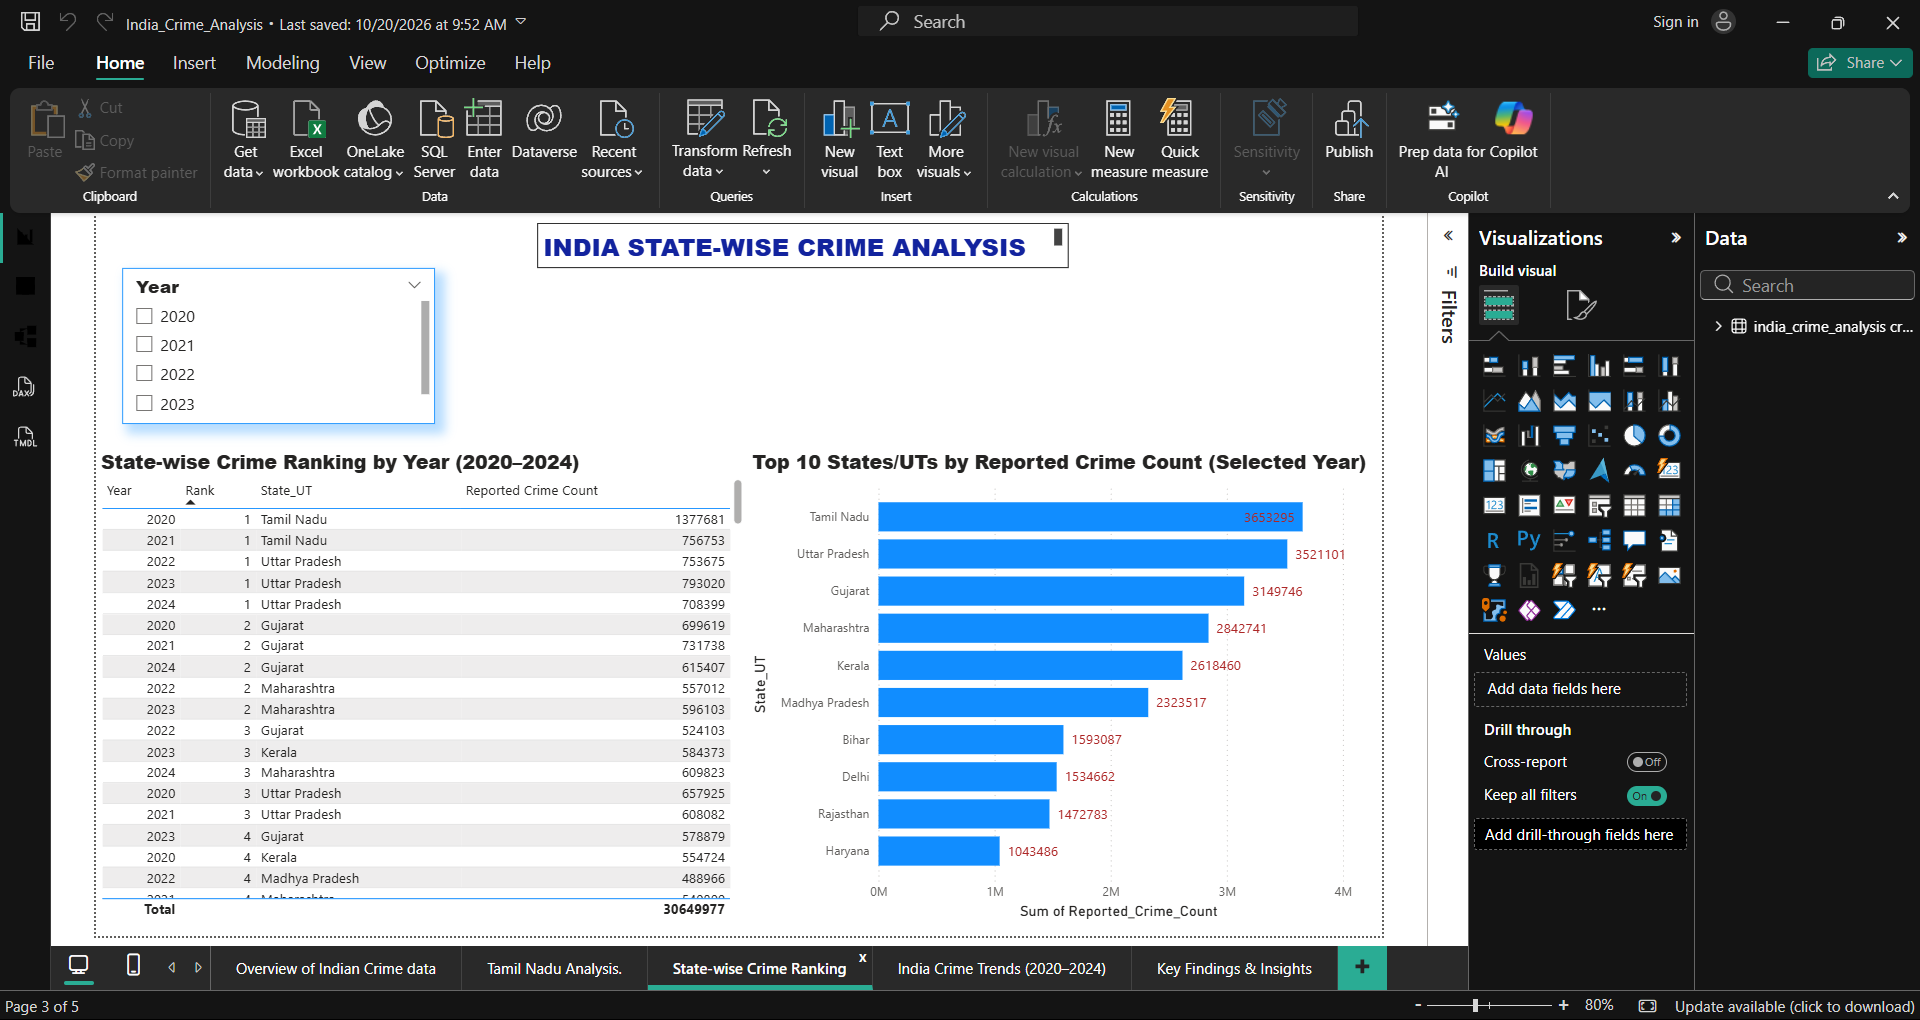

The dashboard page shown, as its layout file describes it:
{"tool":"powerbi","page":{"name":"State-wise Crime Ranking","canvas":[1280,720],"ordinal":2},"visuals":[{"type":"tableEx","title":"State-wise Crime Ranking by Year (2020–2024)","fields":{"Values":["india_crime_analysis crime_data.Year","india_crime_analysis crime_data.Rank","india_crime_analysis crime_data.State_UT","Sum(india_crime_analysis crime_data.Reported_Crime_Count)"]},"box":[0,233.9,648.1,473.9],"z":0},{"type":"slicer","fields":{"Values":["india_crime_analysis crime_data.Year"]},"box":[26.2,55,311.2,155],"z":1000},{"type":"textbox","box":[439.1,10,528.7,44.8],"z":2000},{"type":"clusteredBarChart","title":"Top 10 States/UTs by Reported Crime Count (Selected Year)","fields":{"Category":["india_crime_analysis crime_data.State_UT"],"Y":["Sum(india_crime_analysis crime_data.Reported_Crime_Count)"]},"box":[648.1,233.9,623.2,473.9],"z":3000}]}

Visuals, with their boxes on the page's 1280x720 design canvas (x1, y1, x2, y2). These are canvas units, not pixel positions in the 1920x1020 screenshot, which may show the page scaled, cropped or inside an application window:
"State-wise Crime Ranking by Year (2020–2024)" tableEx: 0,234,648,708
slicer - india_crime_analysis crime_data.Year: 26,55,337,210
textbox: 439,10,968,55
"Top 10 States/UTs by Reported Crime Count (Selected Year)" clusteredBarChart: 648,234,1271,708
